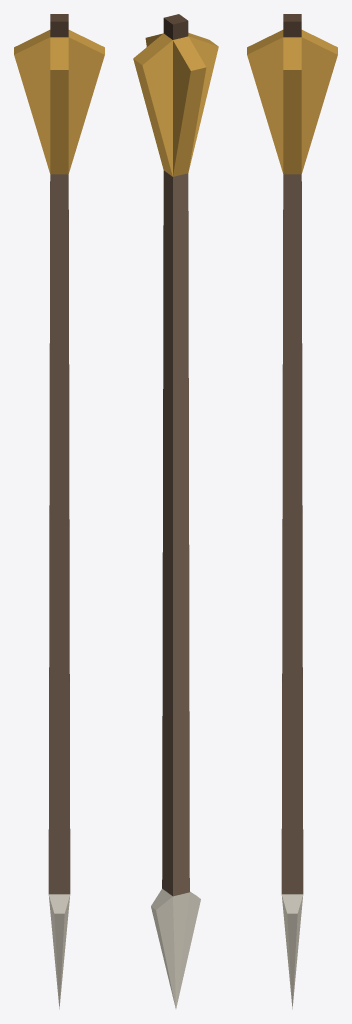
File: Arrow_F_AD_008.fbx
The picture shows the model from 3 angles, left to right: view 1: azimuth 90°, elevation 25°; view 2: azimuth 210°, elevation 25°; view 3: azimuth 270°, elevation 25°; orthographic projection.
Parts seen in each view (by area): view 1: Arrow_F_AD_008; view 2: Arrow_F_AD_008; view 3: Arrow_F_AD_008.
Part boxes in pixels (<box>): Arrow_F_AD_008: <box>14,14,104,1009</box>; Arrow_F_AD_008: <box>133,14,218,1008</box>; Arrow_F_AD_008: <box>247,14,337,1009</box>.
Bounding box in the file's own units: 0.0672 × 0.8316 × 0.069.
